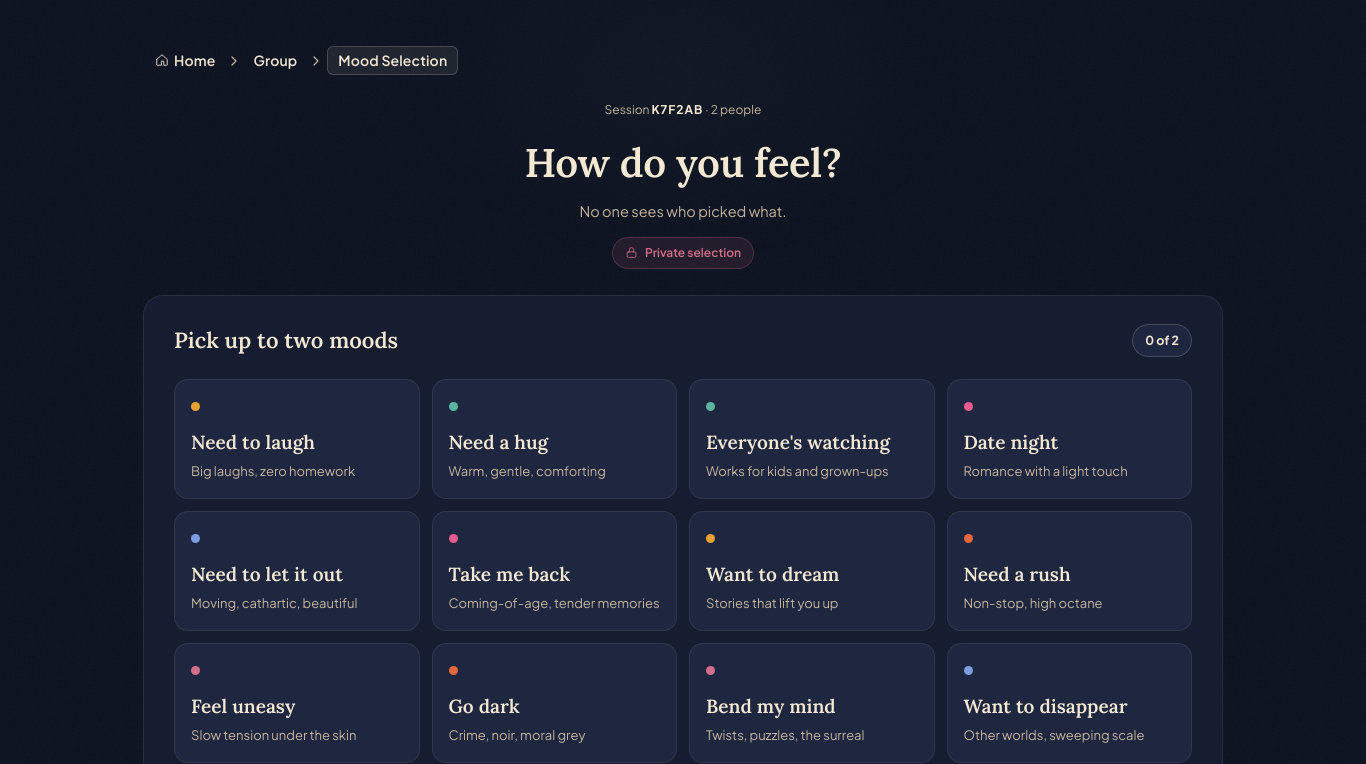
Scenario: Group mood page › returns to the form after a failed lock-in (500), with the error and the picks kept
expect the heading "How do you feel?" is shown: met, box top-left (525, 133), bottom-right (842, 193)
Click the button "Need to laugh Big laughs, zero homework". click: [297, 439]
box: top-left (174, 379), bottom-right (420, 499)
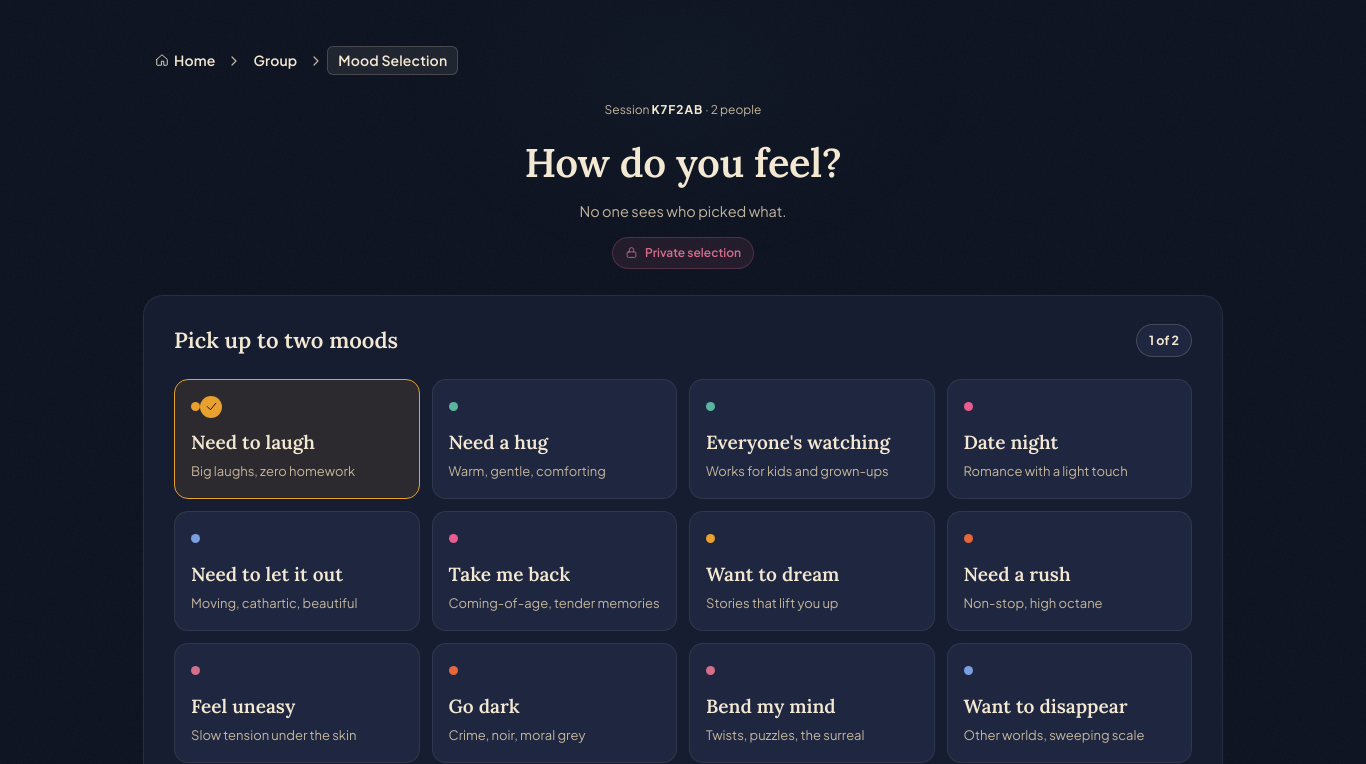
Click the button "Go dark Crime, noir, moral grey". click: [554, 703]
box: top-left (432, 643), bottom-right (677, 763)
(page scrolled)
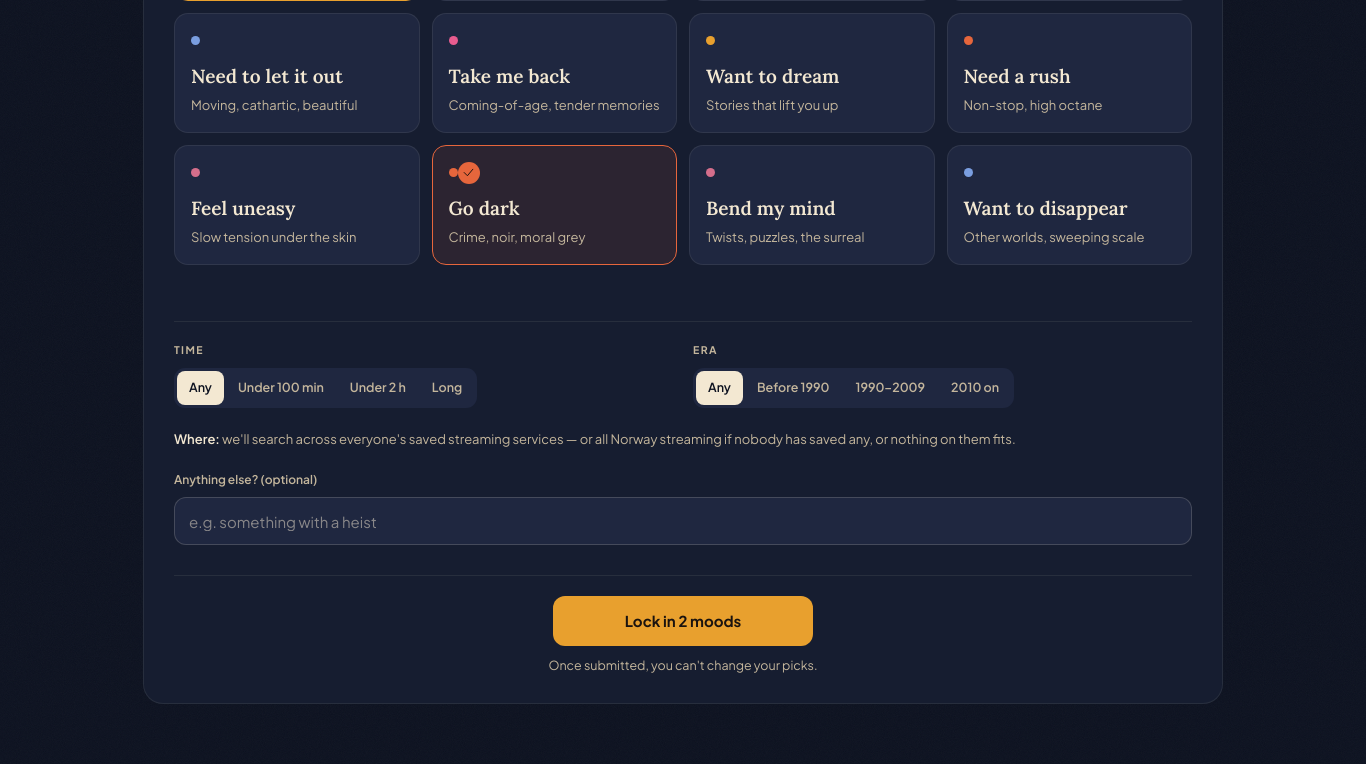
Click the radio button labelled "Before 1990". click: [793, 388]
box: top-left (745, 370), bottom-right (842, 404)
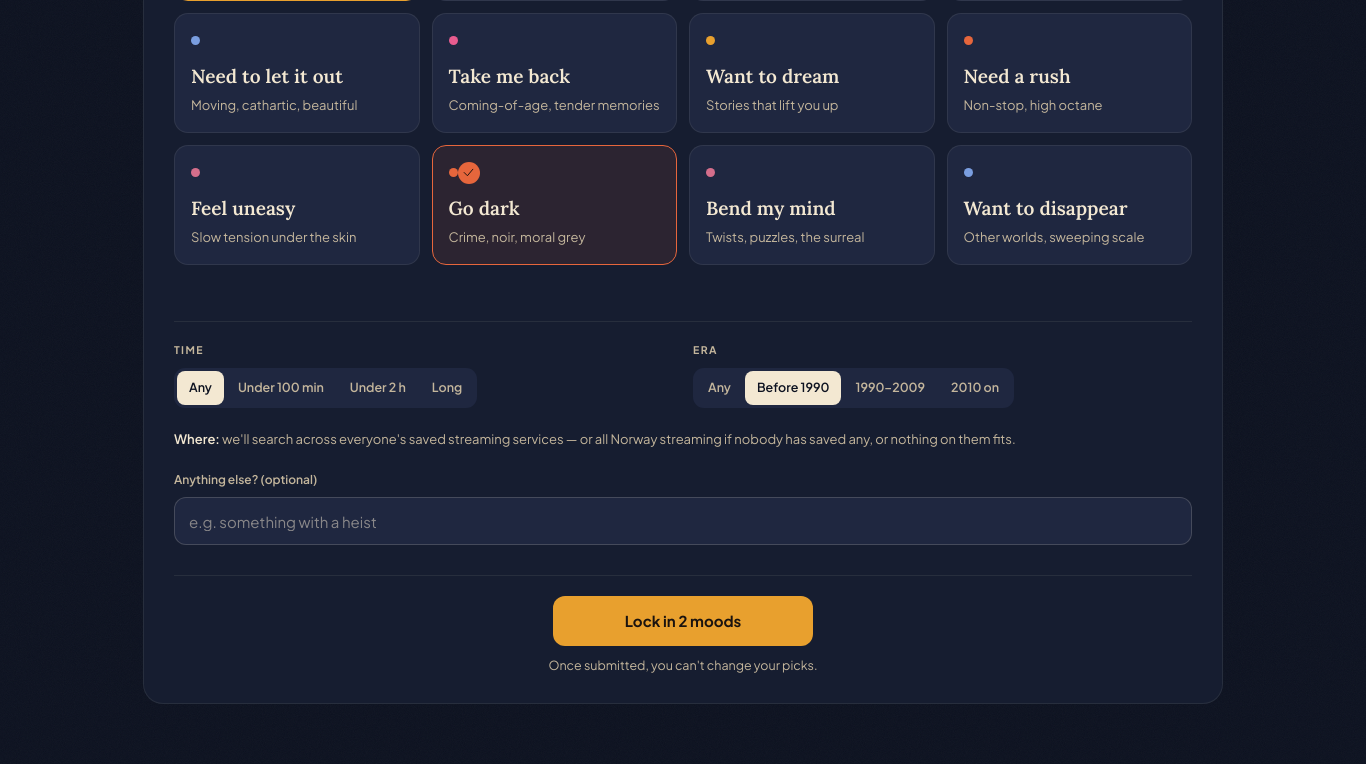
Click the button "Lock in 2 moods". click: [683, 621]
box: top-left (553, 596), bottom-right (813, 646)
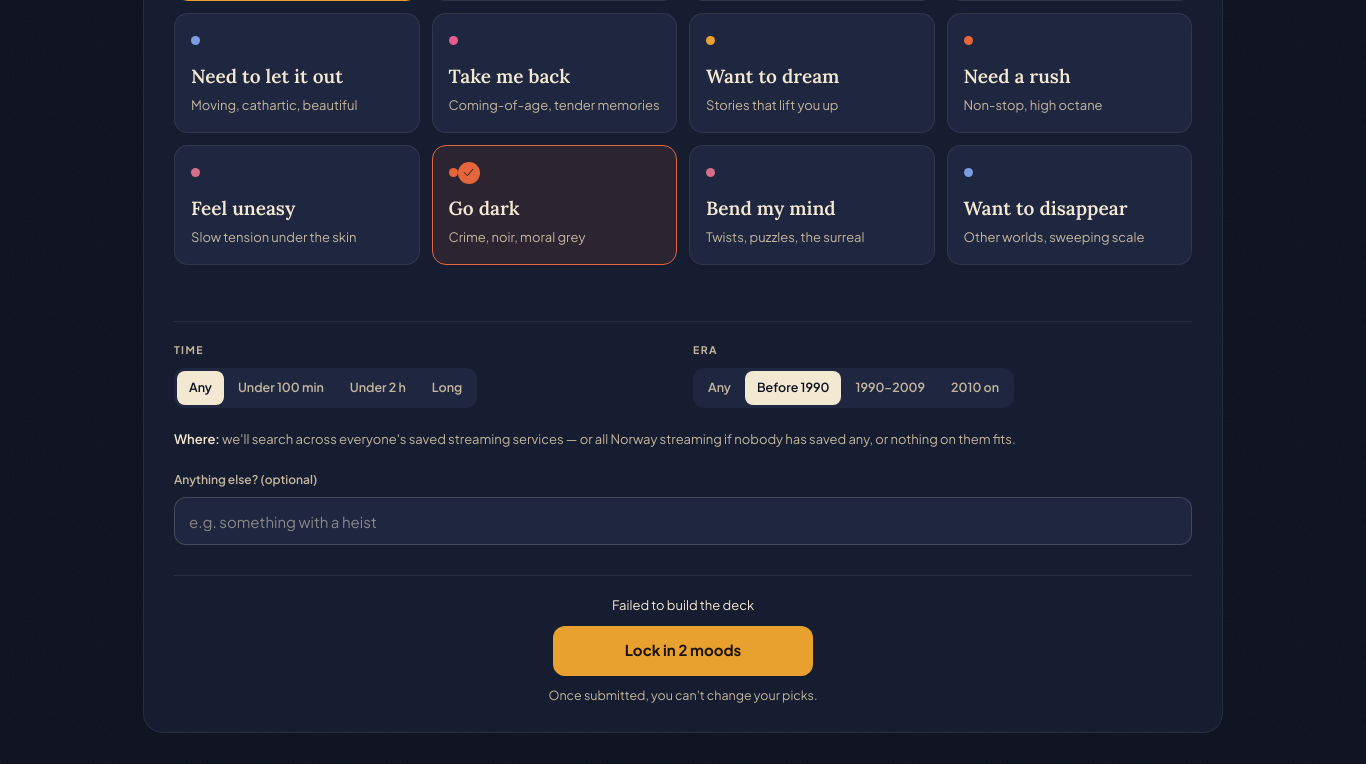
expect the radio button labelled "Before 1990" is checked: met, box top-left (745, 370), bottom-right (842, 404)
expect the button "Lock in 2 moods" is shown: met, box top-left (553, 626), bottom-right (813, 676)
expect the message reads "Failed to build the deck": met, box top-left (612, 597), bottom-right (754, 613)
